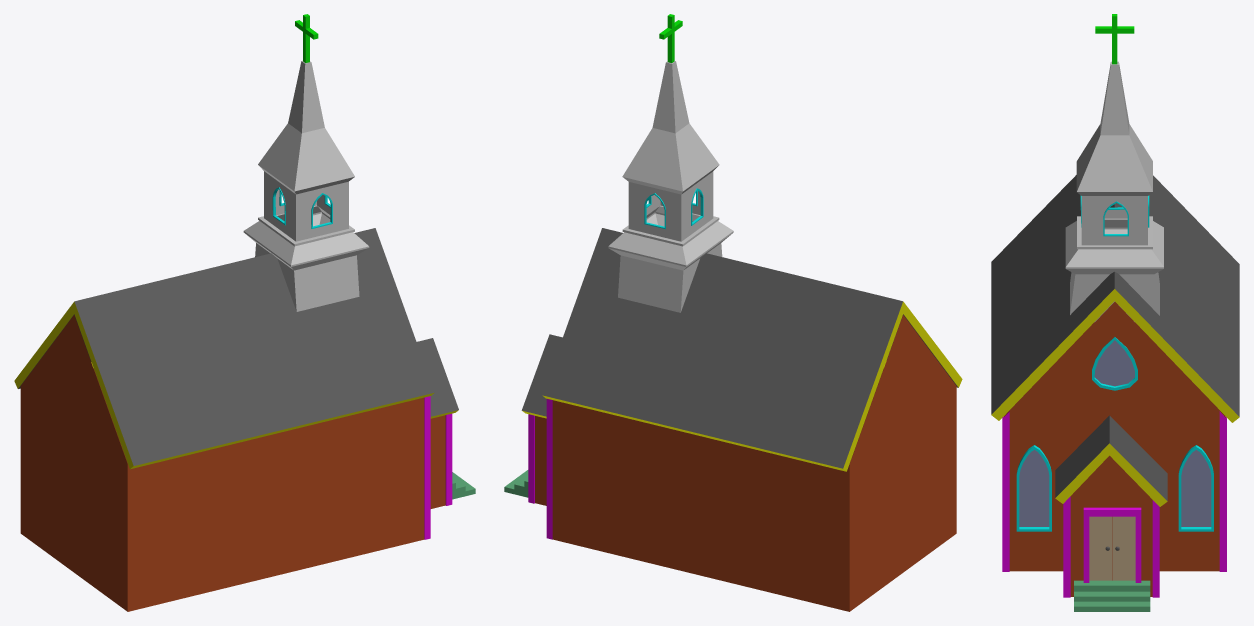
Rendered from church.fbx.
3 renders of one model, left to right at view 1: azimuth 30°, elevation 25°; view 2: azimuth 150°, elevation 25°; view 3: azimuth 270°, elevation 25°, orthographic. The views are drawn at different scales.
Visible parts, largest first — view 1: polySurface129, polySurface121, polySurface110, polySurface115, polySurface125, polySurface132, polySurface119; view 2: polySurface129, polySurface121, polySurface110, polySurface115, polySurface125, polySurface133, polySurface120; view 3: polySurface129, polySurface121, polySurface110, polySurface125, polySurface115, polySurface130, polySurface123, polySurface127, pCube57, polySurface126, polySurface132, polySurface133 (+2 smaller).
Part boxes in pixels (x1,y1,x2,y2): polySurface129: (20, 315, 424, 611); polySurface121: (14, 228, 434, 469); polySurface110: (243, 60, 369, 311); polySurface115: (416, 338, 458, 418); polySurface125: (430, 415, 445, 508); polySurface132: (424, 396, 430, 539); polySurface119: (445, 413, 452, 505); polySurface129: (552, 315, 956, 611); polySurface121: (542, 228, 962, 471); polySurface110: (608, 61, 733, 312); polySurface115: (521, 334, 562, 418); polySurface125: (535, 416, 546, 505); polySurface133: (546, 399, 552, 539); polySurface120: (528, 414, 534, 503); polySurface129: (1004, 302, 1226, 571); polySurface121: (991, 175, 1239, 422); polySurface110: (1065, 61, 1163, 322); polySurface125: (1070, 455, 1152, 596); polySurface115: (1055, 415, 1167, 506); polySurface130: (1016, 195, 1213, 550); polySurface123: (1074, 580, 1150, 611); polySurface127: (1112, 516, 1135, 580); pCube57: (1083, 507, 1141, 582); polySurface126: (1089, 516, 1111, 580); polySurface132: (1002, 411, 1009, 571); polySurface133: (1219, 411, 1226, 571).
Bounding box in the file's own units: 32.97 × 41.32 × 17.87.
